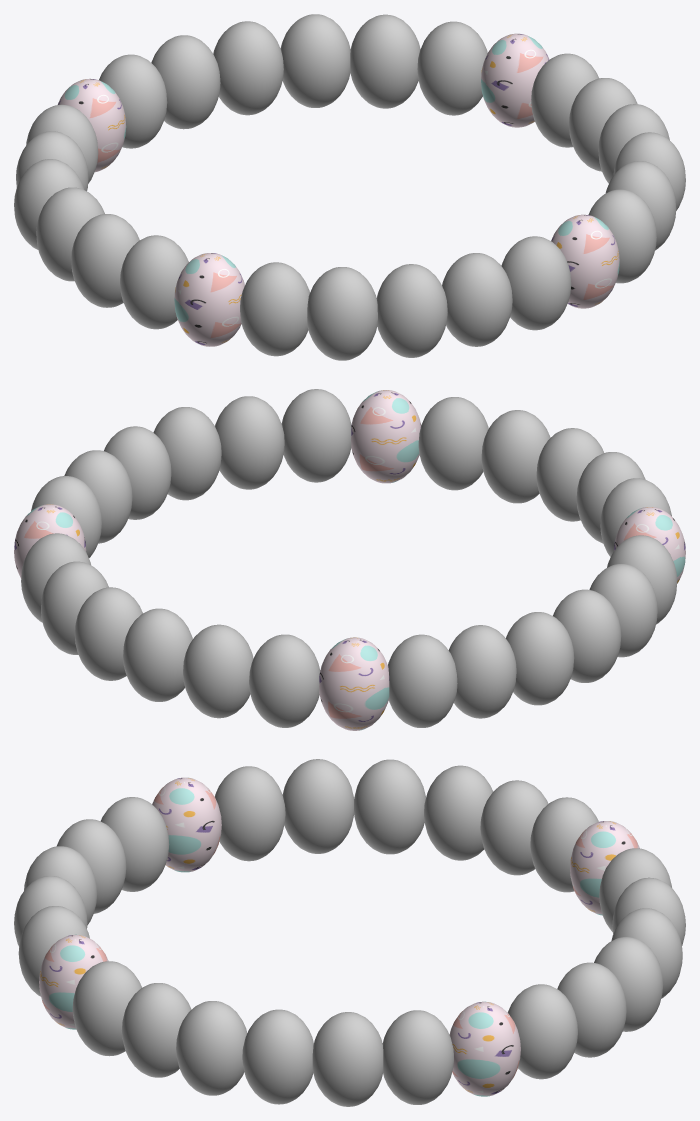
File: Easter Egg.fbx
3 views of the same model, one above another, from view 1: azimuth 30°, elevation 25°; view 2: azimuth 150°, elevation 25°; view 3: azimuth 270°, elevation 25° (orthographic).
Visible parts, largest first — view 1: Sphere.019, Sphere.018, Sphere.006, Sphere.005, Sphere.020, Sphere.021, Sphere.017, Sphere.007, Sphere.004, Sphere.016, Sphere.022, Sphere.003 (+15 smaller); view 2: Sphere.002, Sphere, Sphere.015, Sphere.001, Sphere.014, Sphere.003, Sphere.016, Sphere.013, Sphere.004, Sphere.026, Sphere.025, Sphere.017 (+15 smaller); view 3: Sphere.010, Sphere.011, Sphere.024, Sphere.009, Sphere.023, Sphere.008, Sphere.012, Sphere.022, Sphere.007, Sphere.025, Sphere.013, Sphere.021 (+15 smaller).
Part boxes in pixels (x1=…): Sphere.019: x1=307, y1=267, x2=377, y2=360; Sphere.018: x1=376, y1=264, x2=447, y2=357; Sphere.006: x1=350, y1=14, x2=420, y2=108; Sphere.005: x1=280, y1=14, x2=350, y2=107; Sphere.020: x1=240, y1=262, x2=309, y2=356; Sphere.021: x1=174, y1=253, x2=244, y2=346; Sphere.017: x1=442, y1=253, x2=512, y2=346; Sphere.007: x1=417, y1=21, x2=487, y2=115; Sphere.004: x1=213, y1=21, x2=283, y2=115; Sphere.016: x1=501, y1=236, x2=571, y2=330; Sphere.022: x1=120, y1=235, x2=188, y2=329; Sphere.003: x1=151, y1=35, x2=220, y2=129; Sphere.002: x1=249, y1=634, x2=320, y2=727; Sphere: x1=319, y1=637, x2=389, y2=730; Sphere.015: x1=351, y1=390, x2=421, y2=483; Sphere.001: x1=388, y1=634, x2=457, y2=727; Sphere.014: x1=281, y1=389, x2=351, y2=482; Sphere.003: x1=183, y1=624, x2=253, y2=718; Sphere.016: x1=418, y1=397, x2=488, y2=490; Sphere.013: x1=215, y1=396, x2=284, y2=489; Sphere.004: x1=123, y1=608, x2=192, y2=701; Sphere.026: x1=448, y1=625, x2=516, y2=718; Sphere.025: x1=506, y1=612, x2=574, y2=705; Sphere.017: x1=481, y1=410, x2=550, y2=503; Sphere.010: x1=312, y1=1012, x2=383, y2=1106; Sphere.011: x1=242, y1=1009, x2=313, y2=1104; Sphere.024: x1=354, y1=759, x2=425, y2=854; Sphere.009: x1=382, y1=1010, x2=453, y2=1104; Sphere.023: x1=282, y1=759, x2=353, y2=853; Sphere.008: x1=449, y1=1001, x2=520, y2=1096; Sphere.012: x1=176, y1=1001, x2=247, y2=1095; Sphere.022: x1=215, y1=766, x2=285, y2=861; Sphere.007: x1=507, y1=984, x2=577, y2=1079; Sphere.025: x1=424, y1=765, x2=492, y2=860; Sphere.013: x1=121, y1=983, x2=191, y2=1077; Sphere.021: x1=152, y1=777, x2=221, y2=872.
Bounding box in the file's own units: 49.54 × 7.31 × 49.54.
